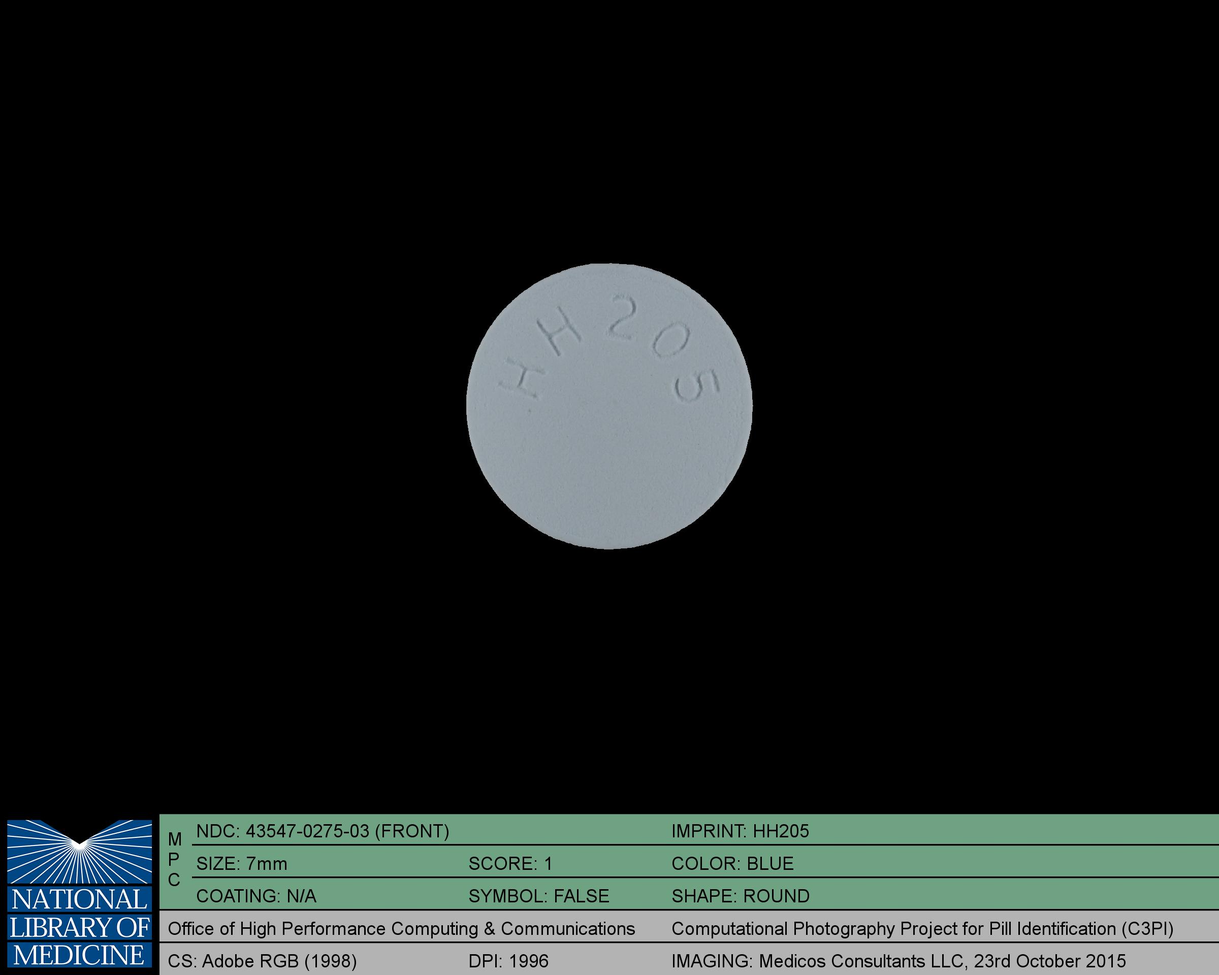Pill: (455, 249, 765, 560)
